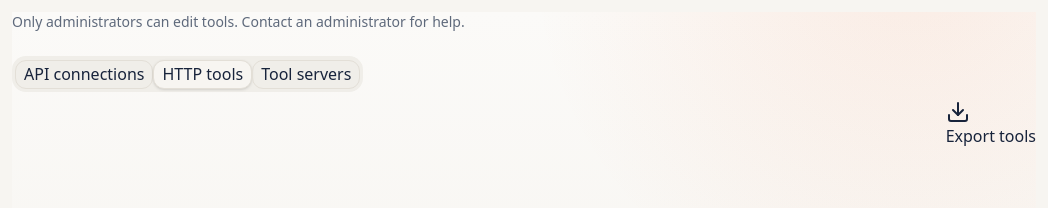
ToolsPage › keeps configuration read-only for a member
Expected: the text "Only administrators can edit tools. Contact an administrator for help." is shown, 12,12 -> 465,31
Expected: the button "Test" is not shown
Press the mouse on the tab "API connections" at (84, 74), box 15,60 -> 154,88
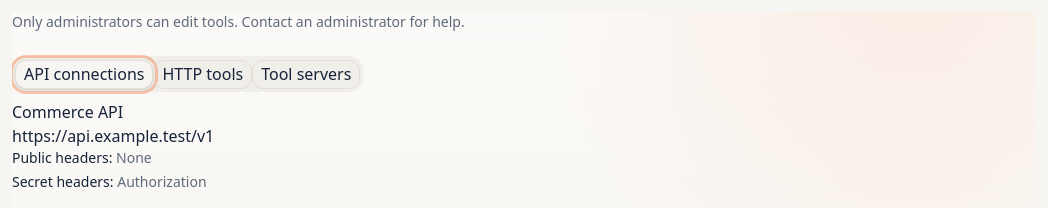
Expected: the text "Commerce API" is shown, 12,101 -> 123,123
Expected: the element showing "Public headers: None" is shown, 12,148 -> 152,167
Expected: the element showing "Secret headers: Authorization" is shown, 12,172 -> 207,191
